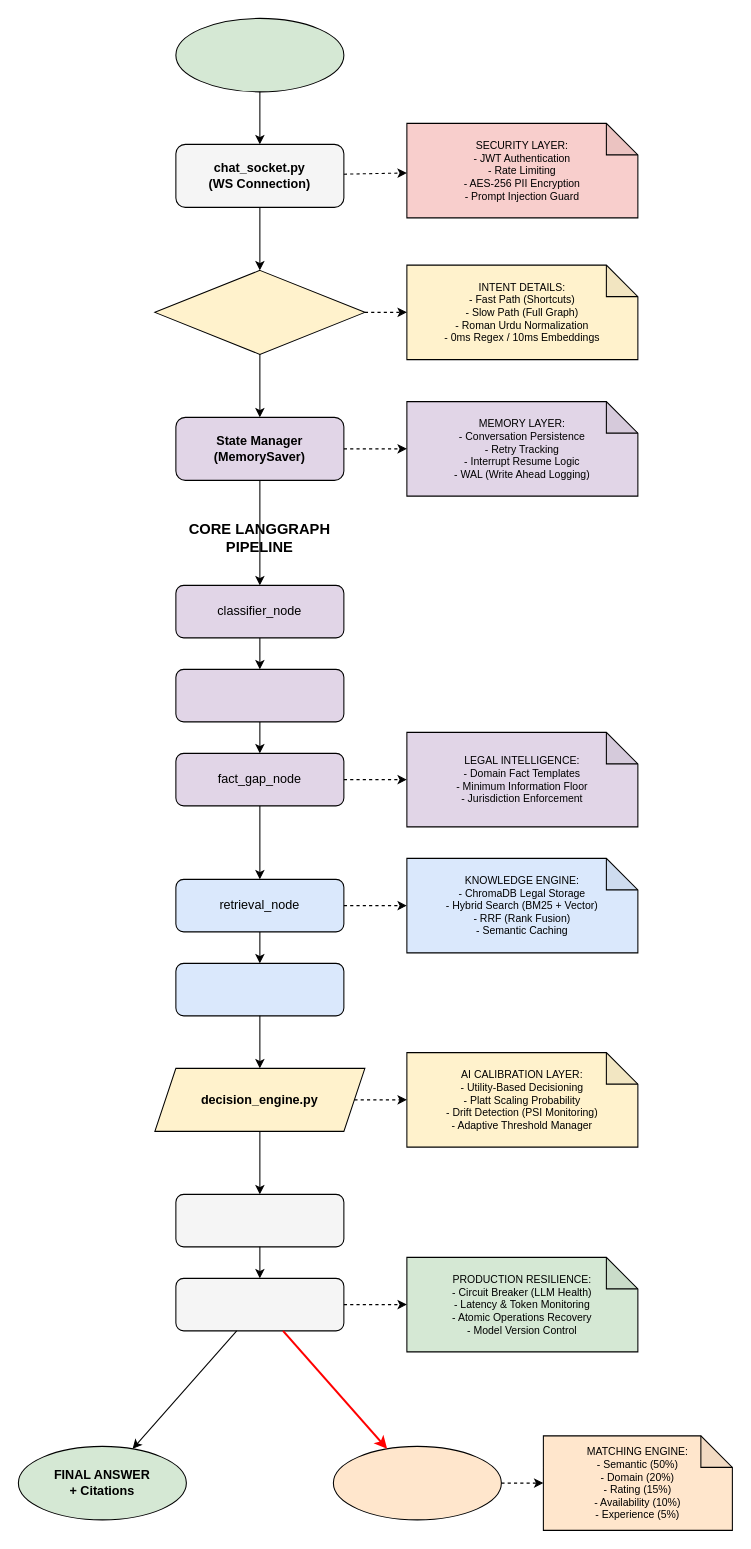
Some shapes in this 751 by 1549 pixel diagram are drawn without their labels. Here are the shapes that lost their labels. From the top down, the box of each, then its label:
(175, 17, 344, 92): USER INPUT (Text/Voice)
(154, 269, 365, 354): Intent Classification (3-Layer NLU)
(175, 668, 344, 722): triage_node
(175, 962, 344, 1016): grader_node
(175, 1193, 344, 1247): generation_node
(175, 1277, 344, 1331): hallucination_node
(332, 1445, 501, 1520): LAWYER ESCALATION (Multi-Factor)
